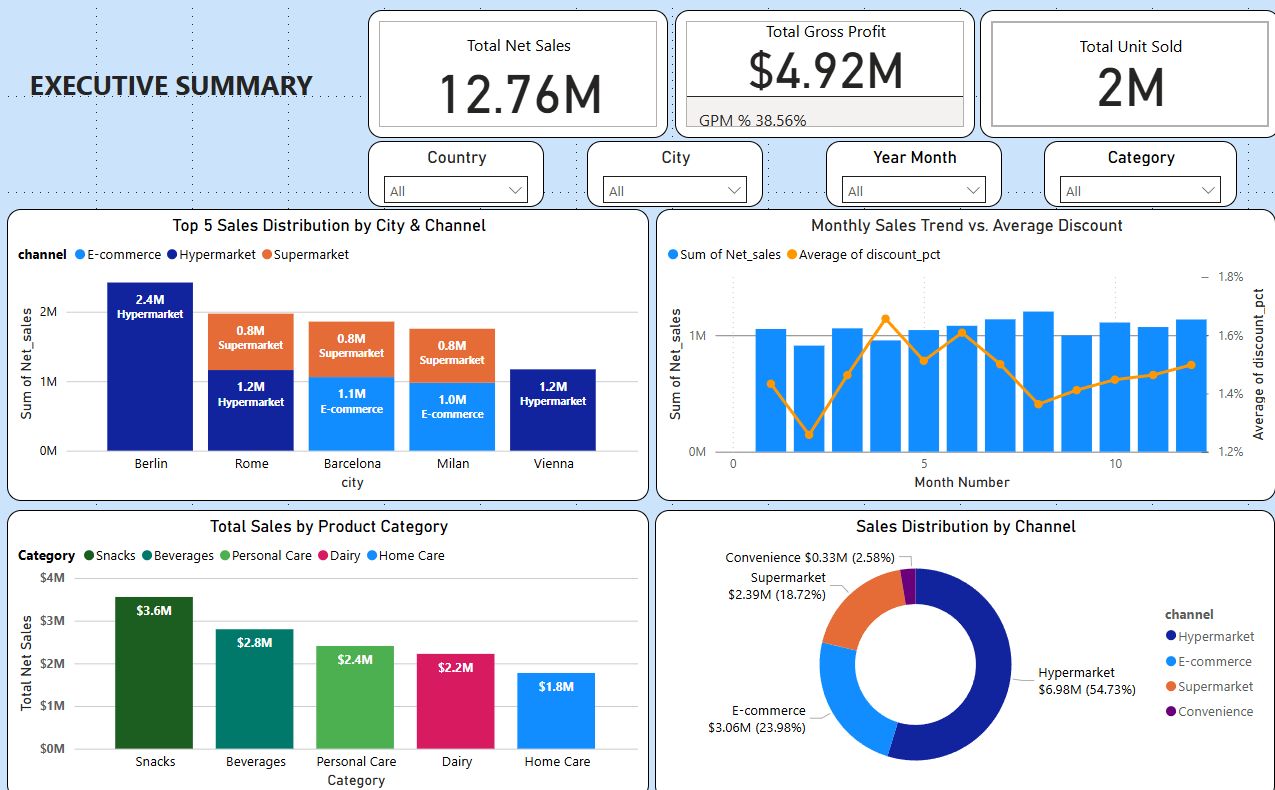

Layout of this report page (visuals, bound fields, positions):
{"tool":"powerbi","page":{"name":"Executive Summary","canvas":[1280,800],"ordinal":0},"visuals":[{"type":"cardVisual","fields":{"Data":["Sum(portofolio vw_enriched_sales.Net_sales)"]},"box":[368,9.6,299.7,128],"z":0},{"type":"cardVisual","fields":{"Data":["Sum(portofolio vw_enriched_sales.Gross_profit)"]},"box":[675.2,9.6,299.7,128],"z":1000},{"type":"cardVisual","fields":{"Data":["Sum(portofolio vw_enriched_sales.Unit_sold)"]},"box":[980.3,9.6,299.7,128],"z":2000},{"type":"donutChart","title":"Sales Distribution by Channel","fields":{"Y":["Sum(portofolio vw_enriched_sales.Net_sales)"],"Category":["portofolio vw_enriched_sales.channel"]},"box":[654.9,509.9,619.7,290.1],"z":3000},{"type":"columnChart","title":"Total Sales by Product Category","fields":{"Category":["portofolio vw_enriched_sales.Category"],"Y":["Sum(portofolio vw_enriched_sales.Net_sales)"],"Series":["portofolio vw_enriched_sales.Category"]},"box":[7.5,509.9,641.1,289.1],"z":4000},{"type":"lineClusteredColumnComboChart","title":"Monthly Sales Trend vs. Average Discount","fields":{"Y":["Sum(portofolio vw_enriched_sales.Net_sales)"],"Category":["DateTable.Month Number"],"Y2":["Avg(portofolio vw_enriched_sales.discount_pct)"]},"box":[656,209.1,619.7,292.3],"z":5000},{"type":"textbox","box":[7.5,9.6,327.5,155.7],"z":6000},{"type":"slicer","title":"Category","fields":{"Values":["portofolio vw_enriched_sales.Category"]},"box":[1044.3,140.8,193.1,66.1],"z":7000},{"type":"slicer","title":"Year Month","fields":{"Values":["DateTable.Year Month"]},"box":[825.6,140.8,176,66.1],"z":8000},{"type":"columnChart","title":"Top 5 Sales Distribution by City & Channel","fields":{"Category":["portofolio vw_enriched_sales.city"],"Series":["portofolio vw_enriched_sales.channel"],"Y":["Sum(portofolio vw_enriched_sales.Net_sales)"]},"box":[7.5,209.1,641.1,292.3],"z":9000},{"type":"slicer","title":"City","fields":{"Values":["portofolio vw_enriched_sales.city"]},"box":[586.7,140.8,176,66.1],"z":10000},{"type":"slicer","title":"Country","fields":{"Values":["portofolio vw_enriched_sales.country"]},"box":[368,140.8,176,66.1],"z":11000}]}

Visuals, with their boxes in screenshot pixels (x1, y1, x2, y2), scaled from the page's 1280x800 canvas onto the 1275x790 screenshot:
cardVisual - Sum(portofolio vw_enriched_sales.Net_sales): locate(367, 9, 665, 136)
cardVisual - Sum(portofolio vw_enriched_sales.Gross_profit): locate(673, 9, 971, 136)
cardVisual - Sum(portofolio vw_enriched_sales.Unit_sold): locate(976, 9, 1274, 136)
"Sales Distribution by Channel" donutChart: locate(652, 504, 1270, 789)
"Total Sales by Product Category" columnChart: locate(7, 504, 646, 789)
"Monthly Sales Trend vs. Average Discount" lineClusteredColumnComboChart: locate(653, 206, 1271, 495)
textbox: locate(7, 9, 334, 163)
"Category" slicer: locate(1040, 139, 1233, 204)
"Year Month" slicer: locate(822, 139, 998, 204)
"Top 5 Sales Distribution by City & Channel" columnChart: locate(7, 206, 646, 495)
"City" slicer: locate(584, 139, 760, 204)
"Country" slicer: locate(367, 139, 542, 204)
